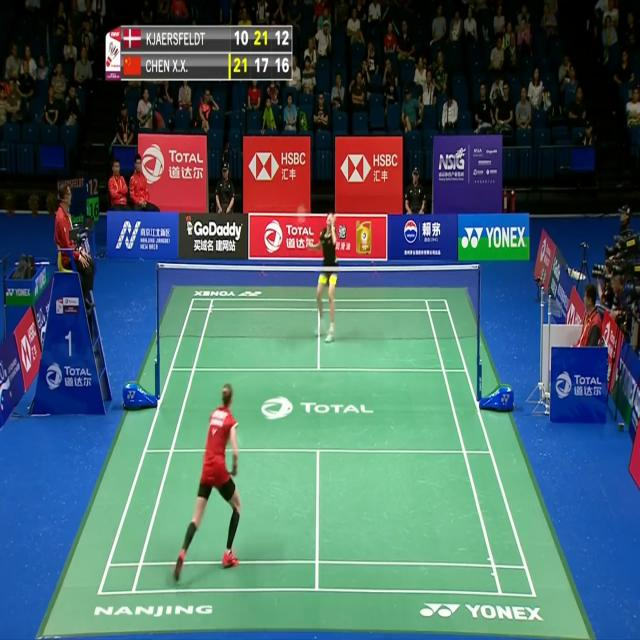Player1: (172, 374, 244, 585)
Player2: (298, 202, 345, 346)
